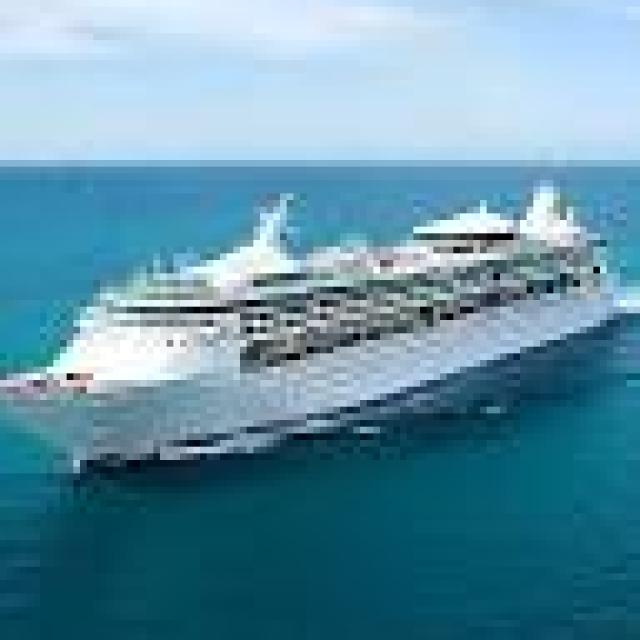passenger ship: (12, 132, 580, 459)
